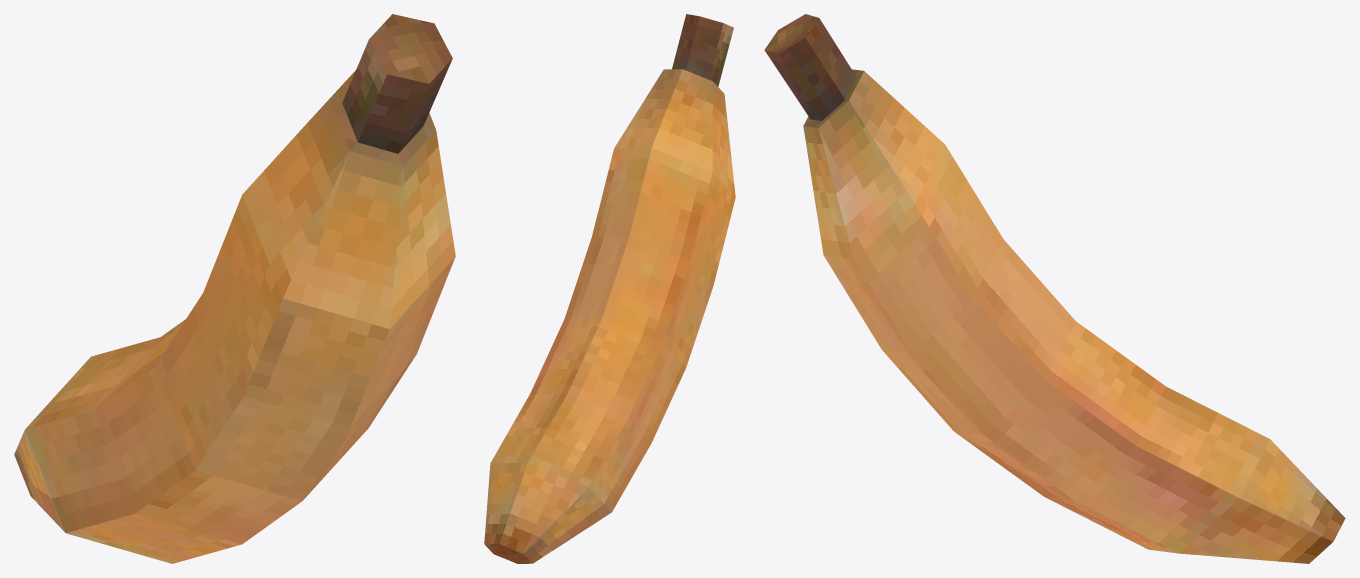
File: banana.glb
3 views of the same model, side by side, from view 1: azimuth 30°, elevation 25°; view 2: azimuth 150°, elevation 25°; view 3: azimuth 270°, elevation 25° (orthographic). The views are drawn at different scales.
Parts seen in each view (by area): view 1: bananaMesh; view 2: bananaMesh; view 3: bananaMesh.
Boxes of the visible parts, box(x1,y1,x2,y2) form: bananaMesh: box(14, 14, 455, 563); bananaMesh: box(484, 14, 735, 563); bananaMesh: box(764, 14, 1345, 563).
Bounding box in the file's own units: 0.2273 × 0.915 × 0.8853.
1 material, 1 textured.
